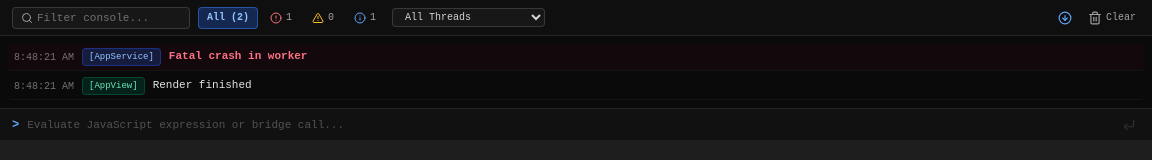
Milestone 4: Multi-Lane Debugger & Storage Suite › 2. UnifiedConsole Component › filters logs by log level and thread origin
The image size is (1152, 160).
Filter by error level
Click the 1st button titled "Filter Errors": (281, 18) [262,8,300,28]
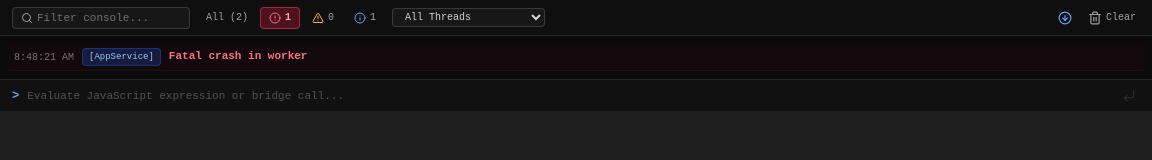
Check: the text "Fatal crash in worker" is shown, box [169,48,307,64]
Check: the text "Render finished" is gone
